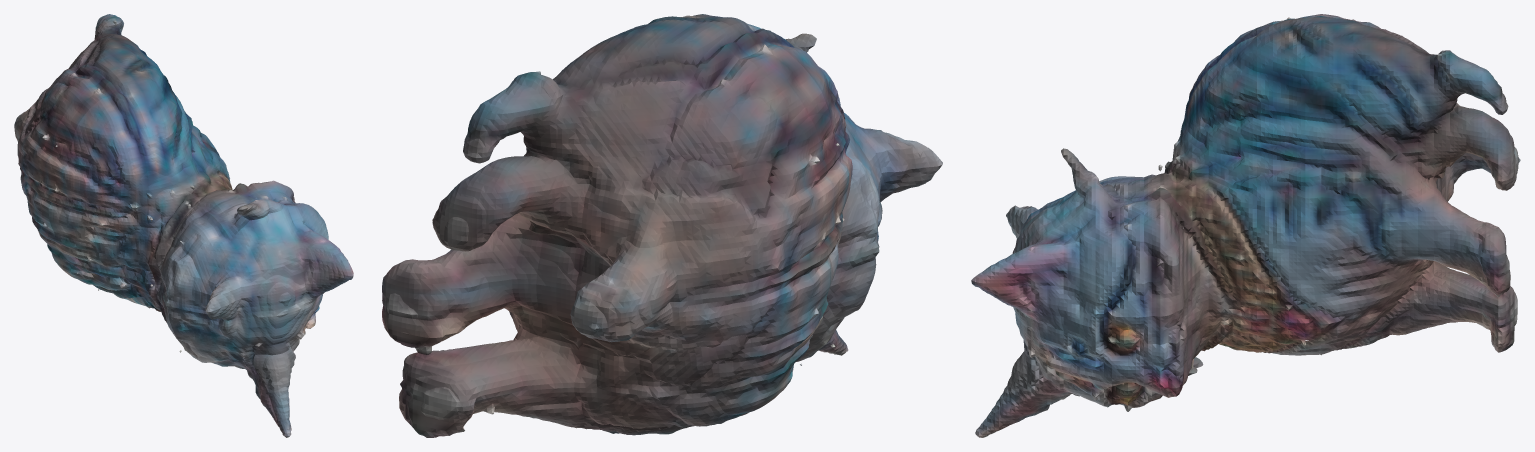
File: padoPoe.glb
3 renders of one model, left to right at view 1: azimuth 30°, elevation 25°; view 2: azimuth 150°, elevation 25°; view 3: azimuth 270°, elevation 25°, orthographic. The views are drawn at different scales.
Parts seen in each view (by area): view 1: world; view 2: world; view 3: world.
Boxes of the visible parts, x1,y1,x2,y2 form: world: (14, 14, 353, 437); world: (382, 14, 942, 437); world: (971, 14, 1520, 437).
Bounding box in the file's own units: 0.5459 × 0.7282 × 0.9277.
